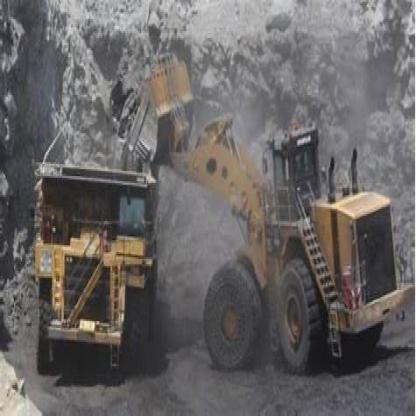bull_dozer/loader/grader: (120, 45, 412, 383)
dump_truck: (19, 150, 159, 395)
